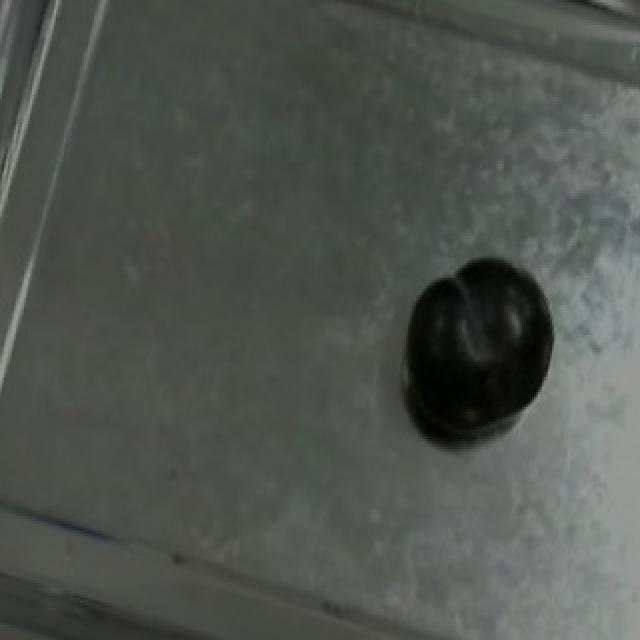Fruit: (392, 238, 568, 454)
